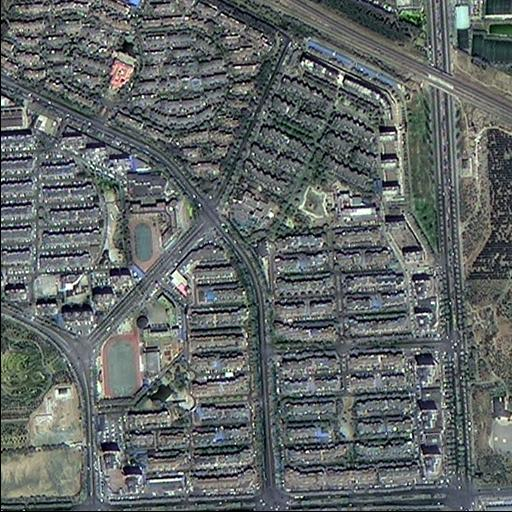school: (94, 281, 188, 407), (122, 196, 190, 273)
